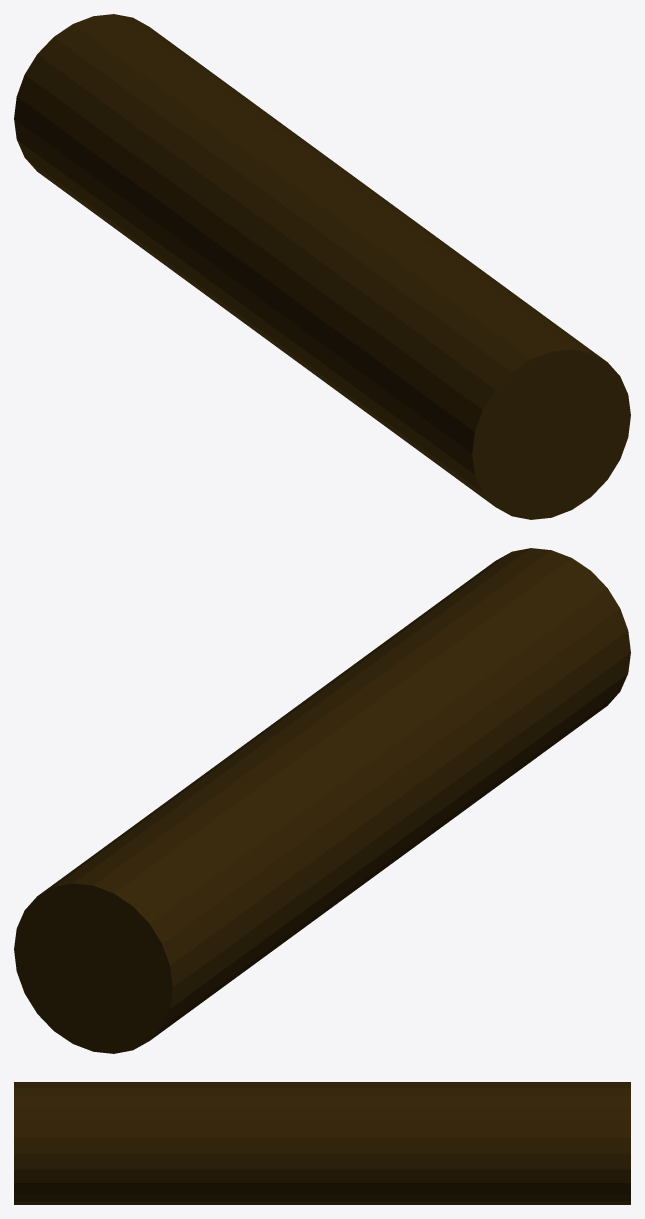
Rendered from Pipe.fbx.
The picture shows the model from 3 angles, top to bottom: view 1: azimuth 30°, elevation 25°; view 2: azimuth 150°, elevation 25°; view 3: azimuth 270°, elevation 25°; orthographic projection. The views are drawn at different scales.
Visible parts, largest first — view 1: Group1; view 2: Group1; view 3: Group1.
Boxes of the visible parts, x1=… form: Group1: x1=14, y1=14, x2=630, y2=519; Group1: x1=14, y1=548, x2=630, y2=1053; Group1: x1=14, y1=1082, x2=630, y2=1204.
Size of the model in its own units: 20 by 20 by 100.
